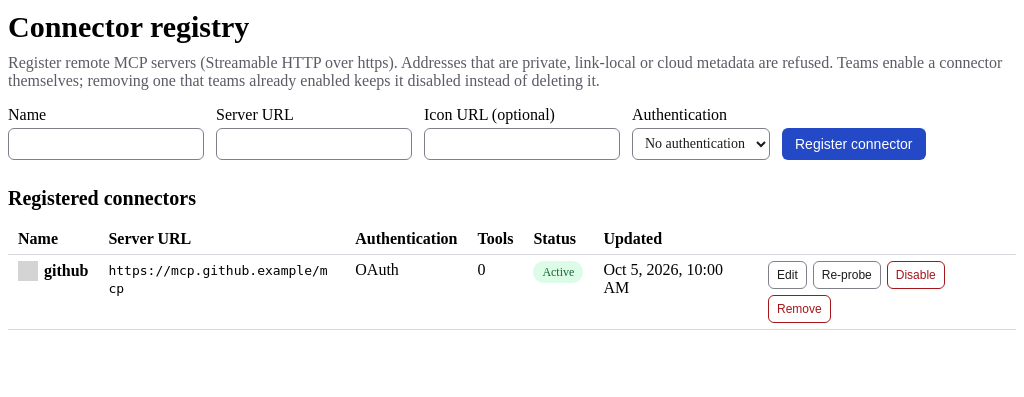
Test case: Connector registry (KOBE-100) › edits a connector, sending only what changed
Click the button named "Edit github".
click(787, 274)  # box [768,260,807,288]
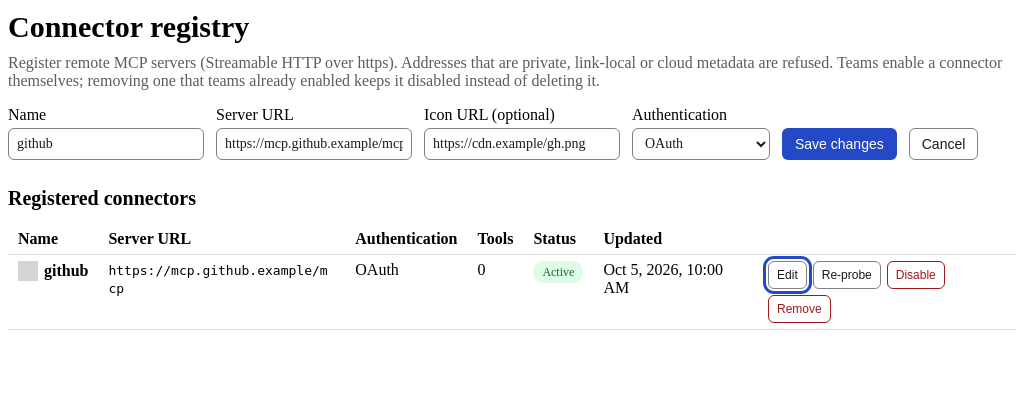
Check: the field labelled "Name" holds "github", box [8,128,204,160]
Select "API key" in the dropdown labelled "Authentication" at point(701, 144), box [632,128,770,160]
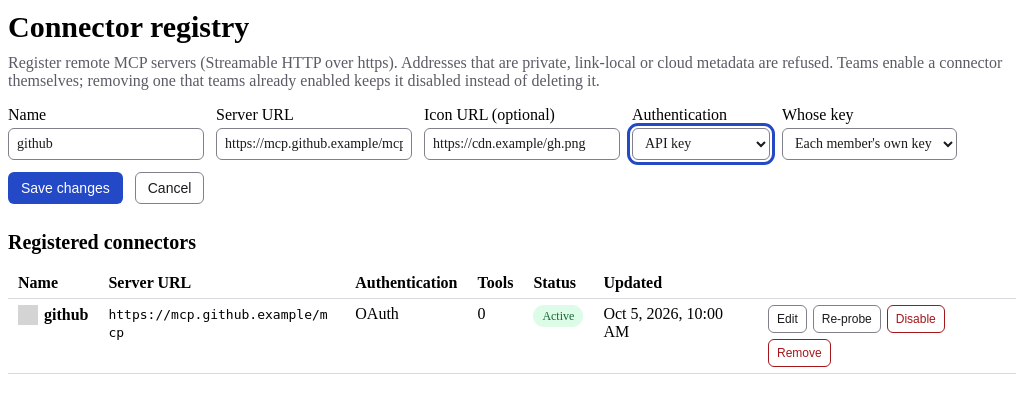
Click the button "Save changes".
click(65, 188)  # box [8,172,123,204]
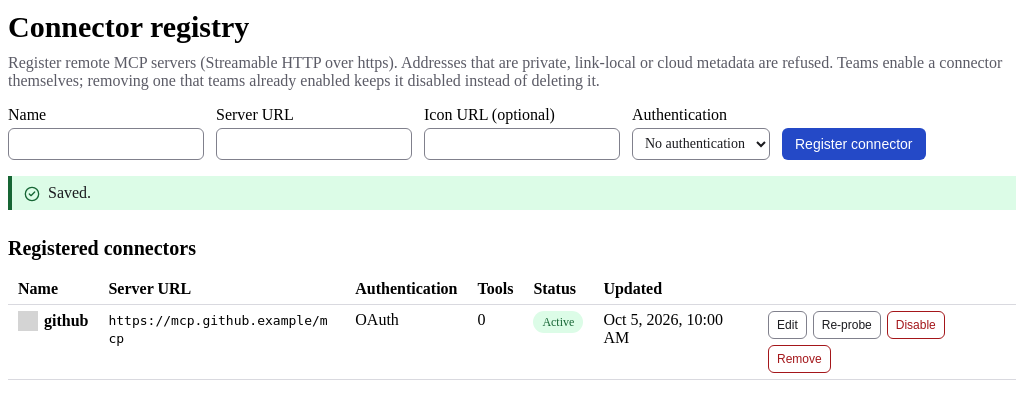
Check: the text "Saved." is shown, box [48,184,91,200]
